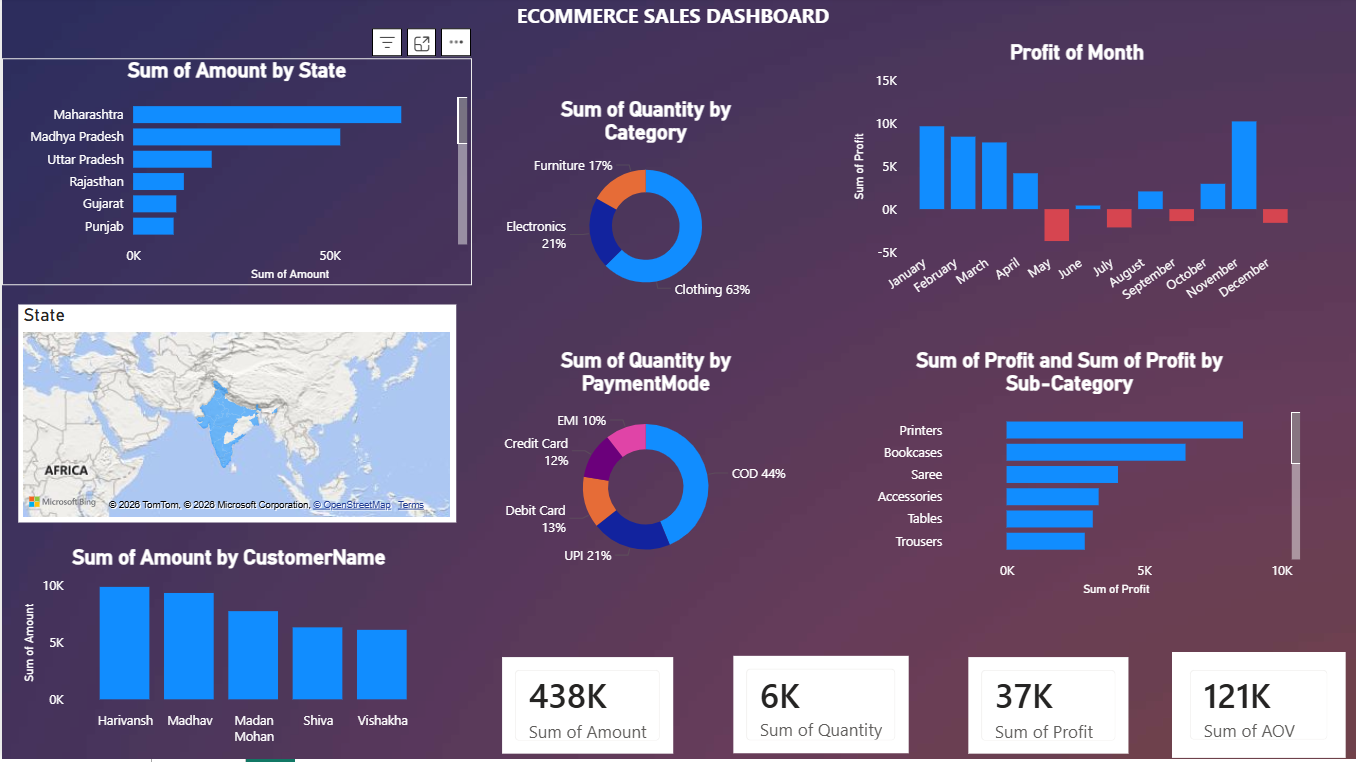

What the dashboard file says about the page in this screenshot:
{"tool":"powerbi","page":{"name":"Page 1","canvas":[1280,720],"ordinal":0},"visuals":[{"type":"textbox","box":[37,0,1193.8,41.2],"z":0},{"type":"columnChart","title":"Profit of Month","fields":{"Category":["Orders.Order Date.Variation.Date Hierarchy.Month"],"Y":["Details.Profit"]},"box":[798.6,41.2,432.2,267.6],"z":1000},{"type":"barChart","fields":{"Y":["Details.Profit","Details.Profit"],"Category":["Details.Sub-Category"]},"box":[784.9,331.7,446.2,238.4],"z":2000},{"type":"donutChart","fields":{"Y":["Details.Quantity"],"Category":["Details.Category"]},"box":[467.9,94.7,281.3,196.2],"z":3000},{"type":"donutChart","fields":{"Category":["Details.PaymentMode"],"Y":["Details.Quantity"]},"box":[467.9,332.1,281.3,214.1],"z":4000},{"type":"cardVisual","fields":{"Data":["Details.Amount"]},"box":[467.9,618.9,171.5,101.5],"z":5000},{"type":"cardVisual","fields":{"Data":["Details.Quantity"]},"box":[686.1,617.5,175.6,102.9],"z":6000},{"type":"cardVisual","fields":{"Data":["Details.Profit"]},"box":[907.7,618.5,161.7,101.5],"z":7000},{"type":"cardVisual","fields":{"Data":["Details.AOV"]},"box":[1104.8,618.5,164.1,100.3],"z":8000},{"type":"filledMap","fields":{"Category":["Orders.State"]},"box":[15.1,290.9,413,205.8],"z":9000},{"type":"barChart","fields":{"Category":["Orders.State"],"Y":["Details.Amount"]},"box":[0,57.8,443.8,214.8],"z":10000},{"type":"columnChart","fields":{"Category":["Orders.CustomerName"],"Y":["Details.Amount"]},"box":[15.1,518.7,397.9,196.2],"z":11000}]}

Visuals, with their boxes in screenshot pixels (x1, y1, x2, y2), scaled from the page's 1280x720 canvas onto the 1356x762 screenshot:
textbox: select_region(39, 0, 1304, 44)
"Profit of Month" columnChart: select_region(846, 44, 1304, 327)
barChart - Details.Profit x Details.Profit: select_region(832, 351, 1304, 603)
donutChart - Details.Quantity x Details.Category: select_region(496, 100, 794, 308)
donutChart - Details.PaymentMode x Details.Quantity: select_region(496, 351, 794, 578)
cardVisual - Details.Amount: select_region(496, 655, 677, 761)
cardVisual - Details.Quantity: select_region(727, 654, 913, 761)
cardVisual - Details.Profit: select_region(962, 655, 1133, 761)
cardVisual - Details.AOV: select_region(1170, 655, 1344, 761)
filledMap - Orders.State: select_region(16, 308, 454, 526)
barChart - Orders.State x Details.Amount: select_region(0, 61, 470, 289)
columnChart - Orders.CustomerName x Details.Amount: select_region(16, 549, 438, 757)
